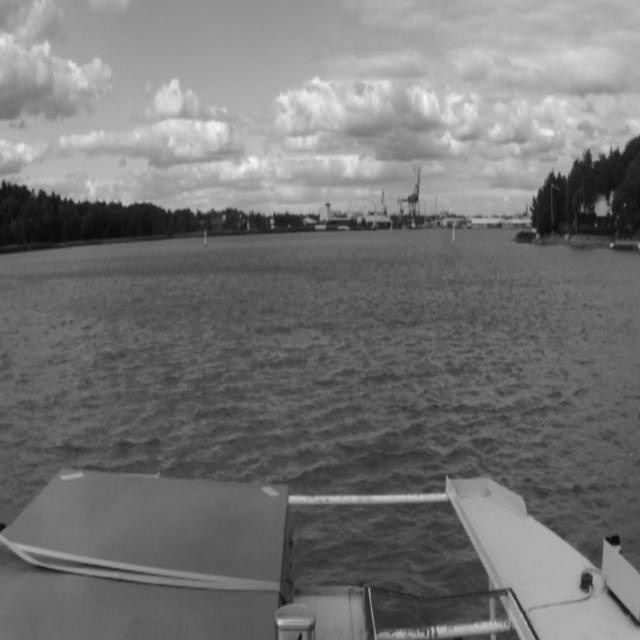buoy: (202, 227, 206, 249), (451, 223, 455, 243)
